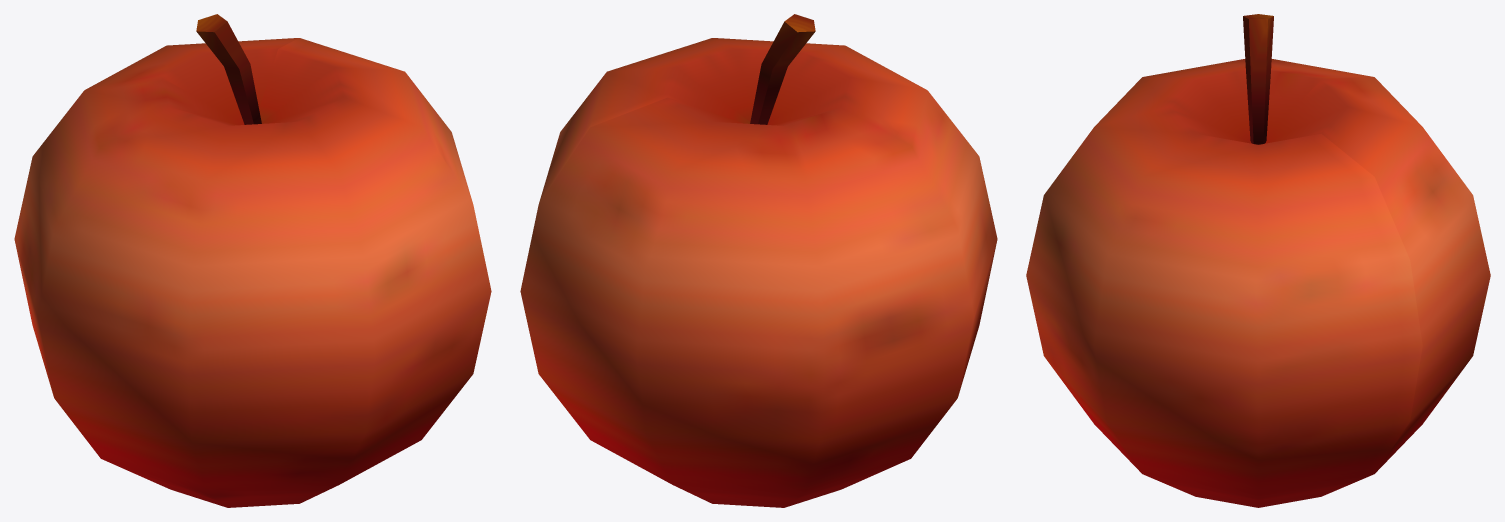
The model's file is Apple.fbx.
3 renders of one model, left to right at view 1: azimuth 30°, elevation 25°; view 2: azimuth 150°, elevation 25°; view 3: azimuth 270°, elevation 25°, orthographic. The views are drawn at different scales.
Visible parts, largest first — view 1: apple; view 2: apple; view 3: apple.
Boxes of the visible parts, left/top/right/bottom form: apple: left=14, top=14, right=491, bottom=507; apple: left=520, top=14, right=997, bottom=507; apple: left=1026, top=14, right=1490, bottom=507.
Bounding box in the file's own units: 0.6506 × 0.688 × 0.6403.
